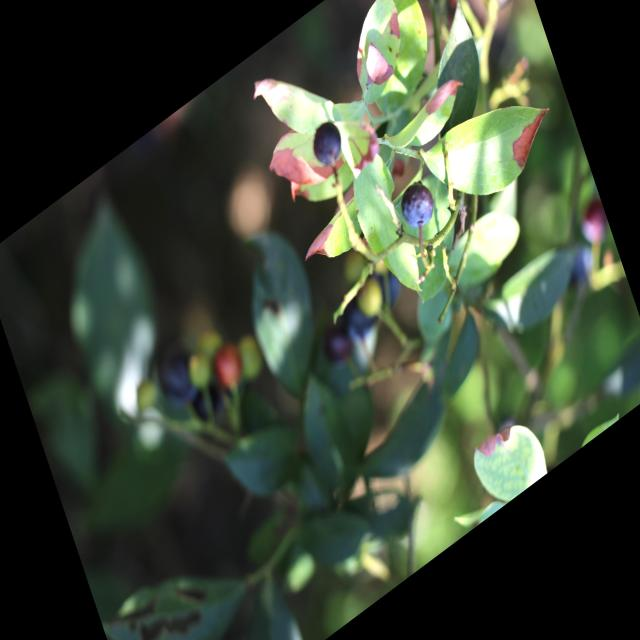blueberry: (154, 341, 206, 419), (395, 174, 440, 242), (304, 116, 348, 178), (317, 316, 356, 374)
blueberry-unripe: (351, 268, 390, 324)
